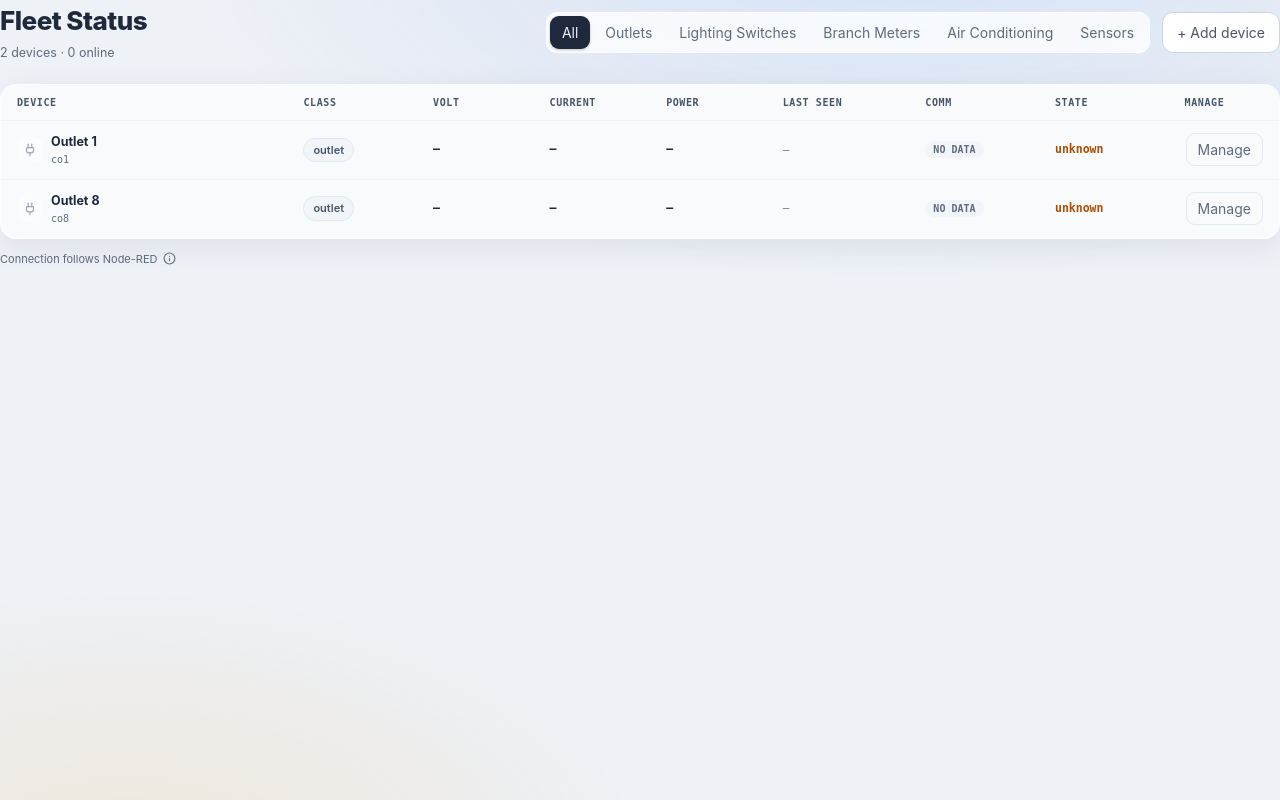
Test case: DevicesView › offers the Remove tab only for an enrolled device, never for a built-in one
The width and height of the screenshot is (1280, 800).
Click the button with aria-label "Manage Outlet 1" at (1224, 150), box [1186,133,1263,166]
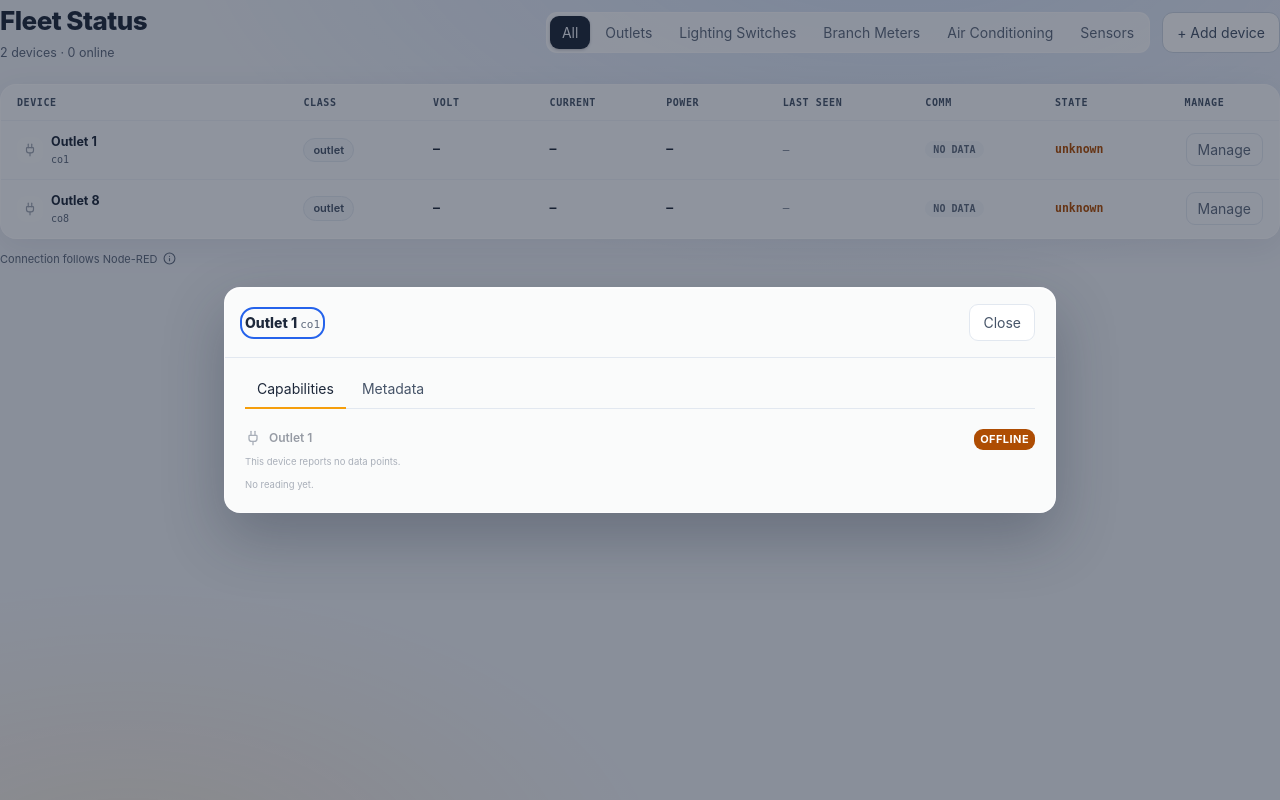
Check: the tab "Remove" is not shown
Click the button "Close" at (1002, 323), box [969,304,1035,341]
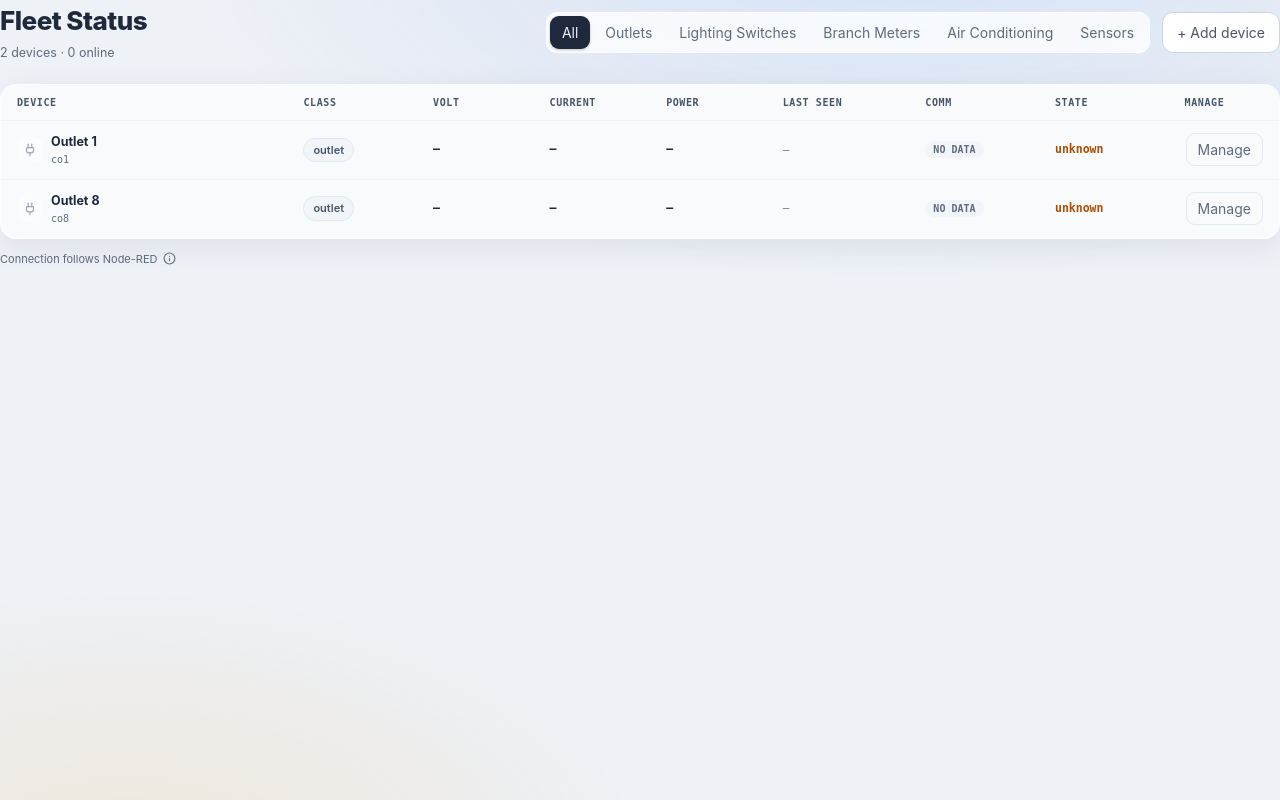
Click the button with aria-label "Manage Outlet 8" at (1224, 209), box [1186,192,1263,225]
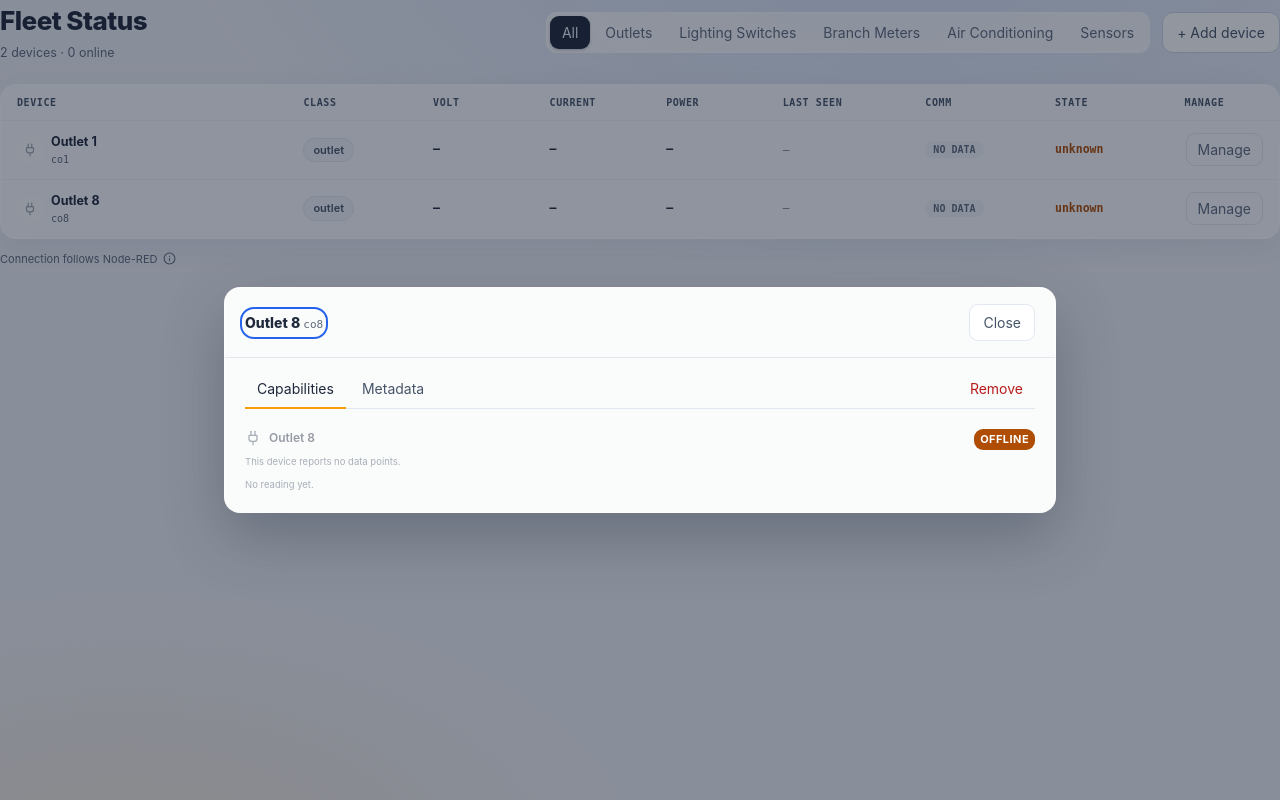
Check: the tab "Remove" is shown, box [958,370,1035,409]
